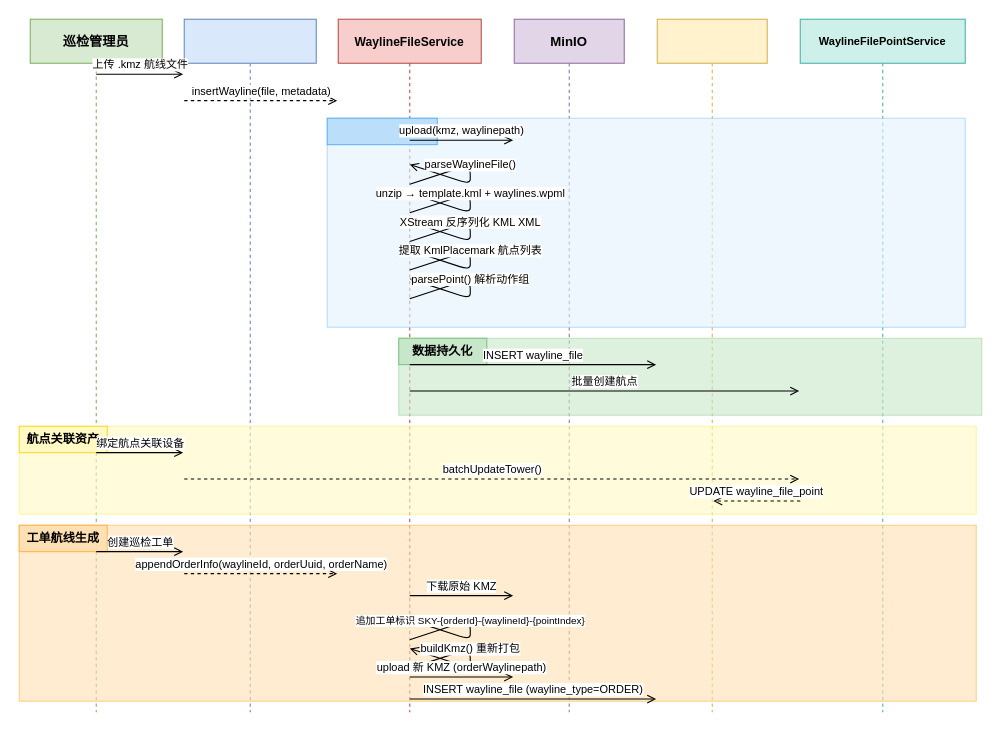
This 1001x732 diagram has some shape labels left out. Each missing label, with the box of its shape:
MySQL: (656, 18, 767, 712)
Skytech Web: (183, 18, 316, 712)
文件存储与解析: (326, 117, 437, 145)
